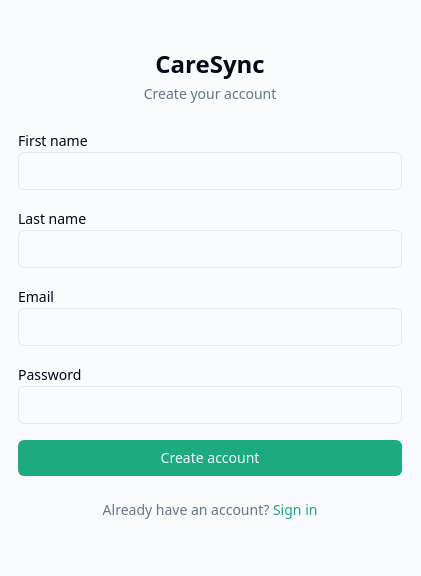
Test: RegisterPage › shows validation errors on empty submission
The image size is (421, 576).
Click the button "Create account". click: click(210, 458)
box: [18, 440, 402, 476]
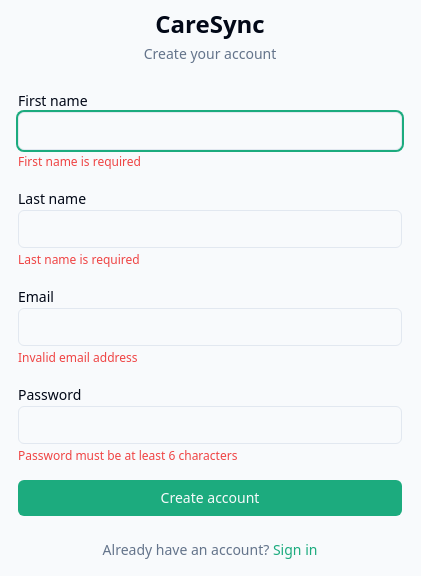
expect the text "First name is required" is shown: met, box [18, 153, 141, 170]
